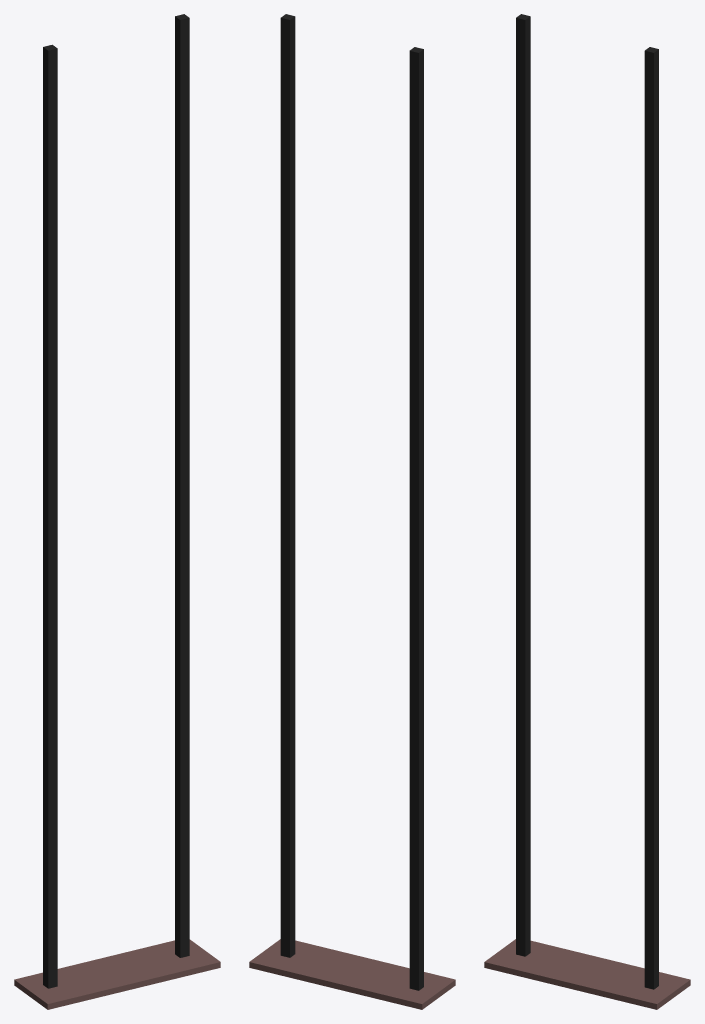
File: swing.gltf
The picture shows the model from 3 angles, left to right: view 1: azimuth 30°, elevation 25°; view 2: azimuth 150°, elevation 25°; view 3: azimuth 330°, elevation 25°; orthographic projection.
Visible parts, largest first — view 1: Cube.003, Cube.005, Cube.002; view 2: Cube.005, Cube.003, Cube.002; view 3: Cube.003, Cube.005, Cube.002.
Boxes of the visible parts, <box> form: Cube.003: <box>43,44,57,988</box>; Cube.005: <box>175,14,189,957</box>; Cube.002: <box>14,939,220,1009</box>; Cube.005: <box>280,14,295,957</box>; Cube.003: <box>409,47,423,990</box>; Cube.002: <box>249,939,455,1009</box>; Cube.003: <box>516,14,530,956</box>; Cube.005: <box>644,47,658,989</box>; Cube.002: <box>484,939,690,1009</box>.
Bounding box in the file's own units: 0.9846 × 5.13 × 0.3315.
